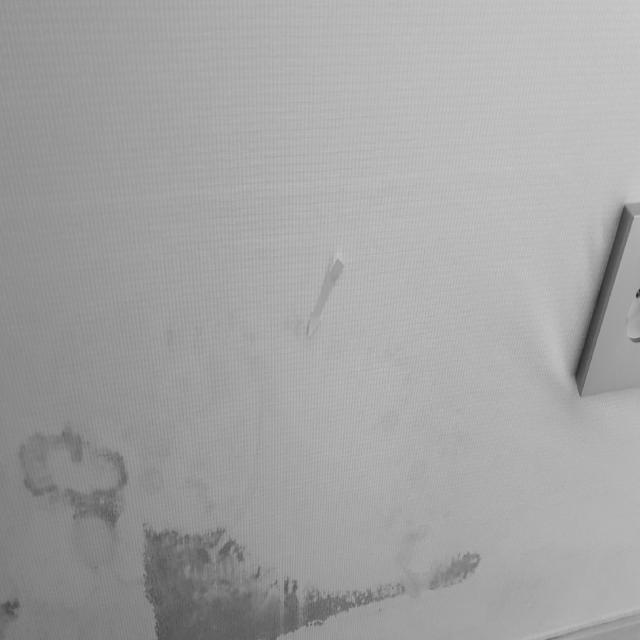stain marks: (3, 406, 480, 633)
